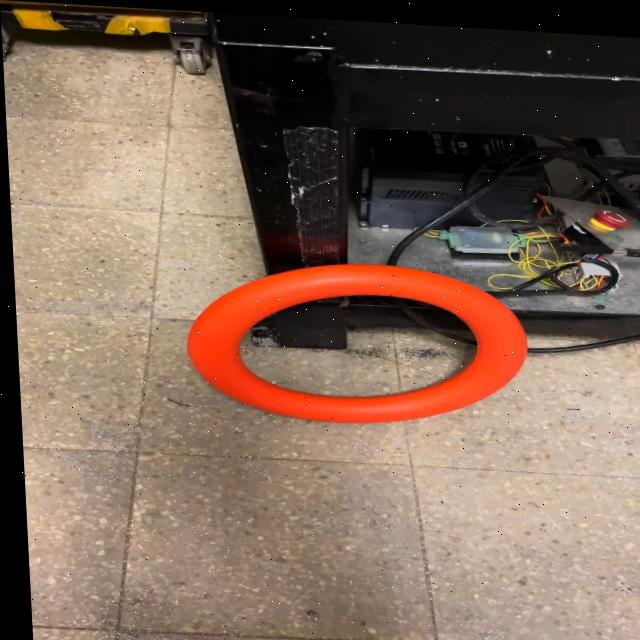note: (176, 249, 531, 430)
